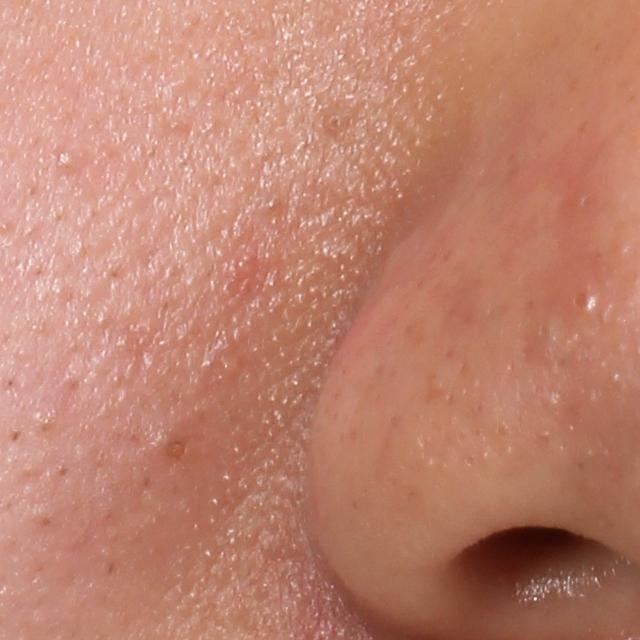comedo: (53, 147, 89, 177), (161, 435, 190, 466), (571, 285, 601, 314), (323, 111, 346, 133)
